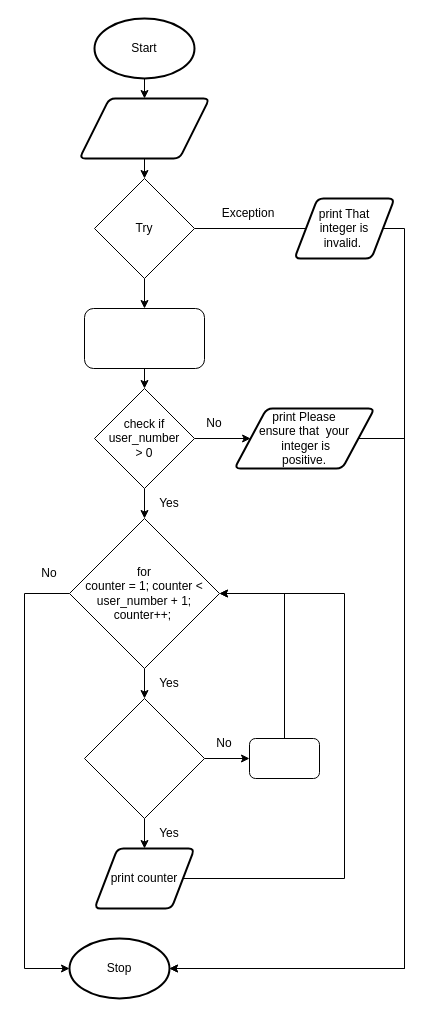
Image size: 430x1016. Some labels were removed from this diagram. The shapes that lost their labels are listed below. From the top down, each one's centre as x and y in pixels, then its label:
At point (144, 128): "get user_number_string".
At point (144, 338): "convert user_number_string to int".
At point (144, 758): "if user_number % counter == 0".
At point (284, 758): "continue".
